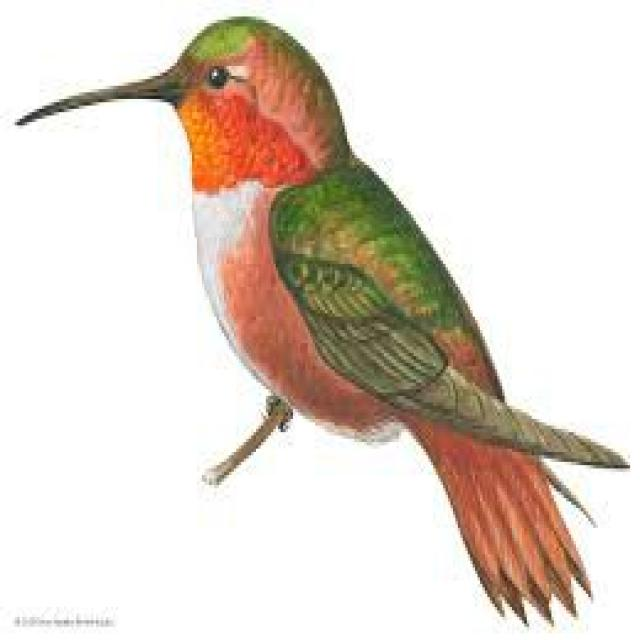Humming Bird: (15, 16, 598, 618)
